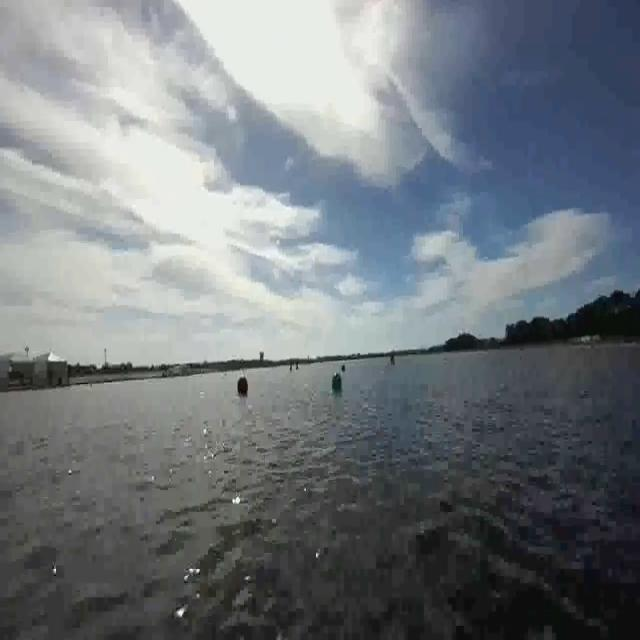green-buoy: (331, 372, 345, 394)
red-buoy: (237, 376, 250, 397)
